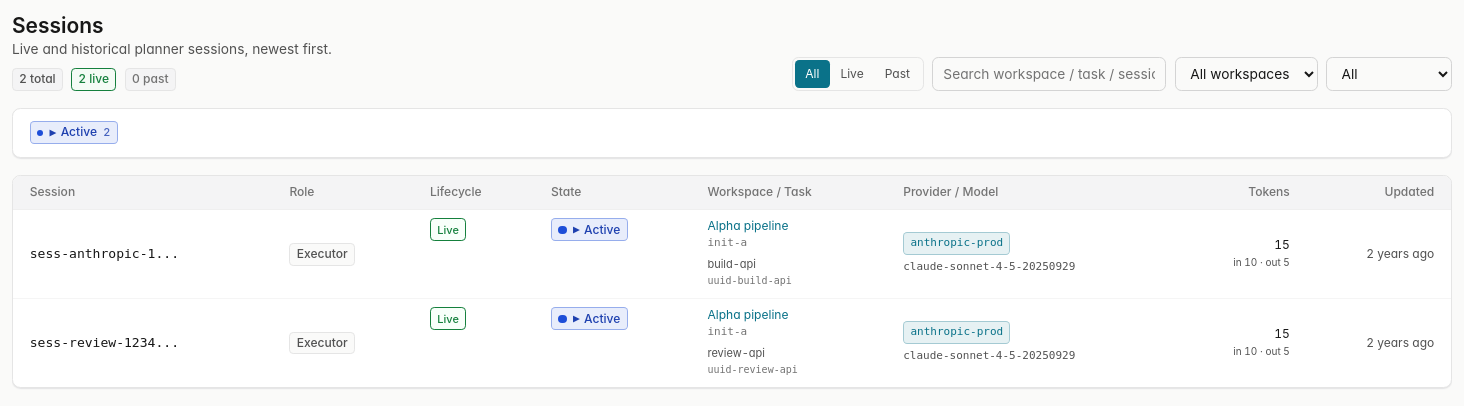
Test: <SessionsPage> › searches by operator task name as well as runtime task id
This screenshot has width=1464, height=406.
Expected: the link "build-api" is shown, [707,257,756,271]
Expected: the link "review-api" is shown, [707,346,765,360]
In the field with placeholder "Search workspace / task / session / provider...": (1049, 74) [932,57,1166,91], type "review-api"
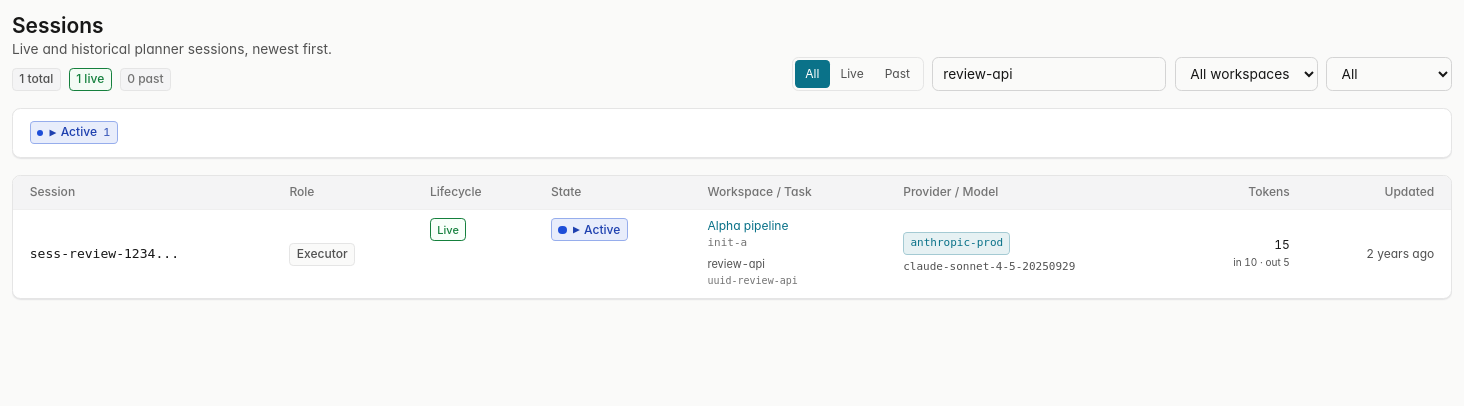
Expected: the link "review-api" is shown, [707,257,765,271]
Now the link "build-api" is gone
